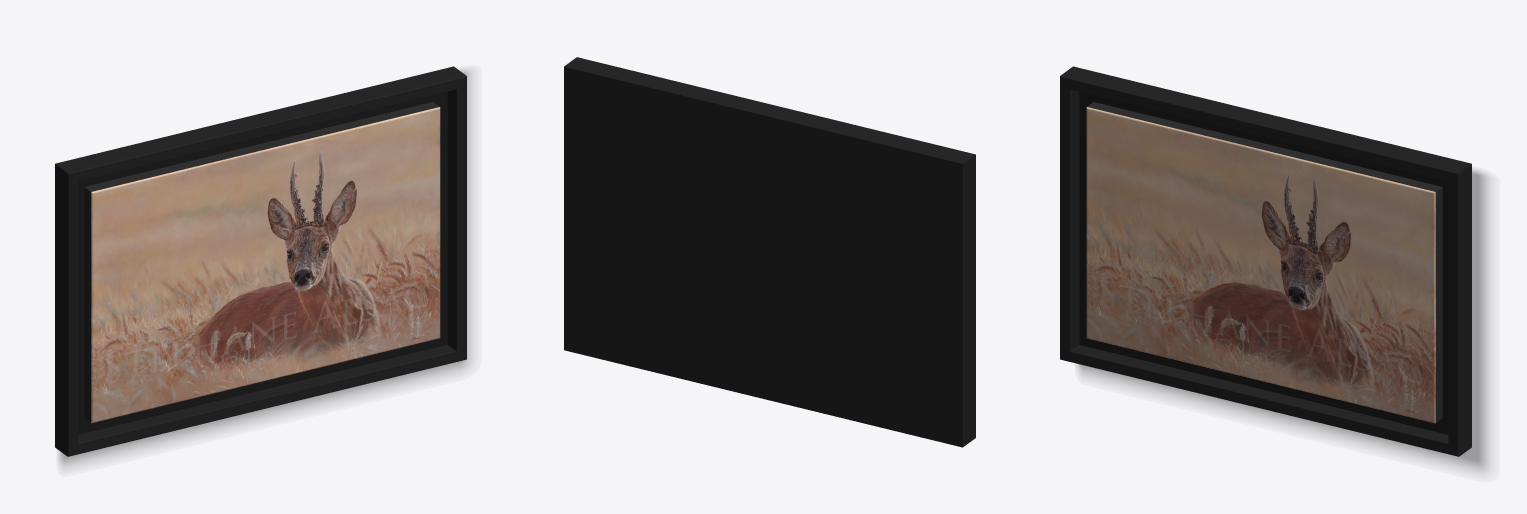
File: peinture-brocard-ete-classique-027ef873.glb
3 views of the same model, side by side, from view 1: azimuth 30°, elevation 25°; view 2: azimuth 150°, elevation 25°; view 3: azimuth 330°, elevation 25° (orthographic).
Visible parts, largest first — view 1: Painting; view 2: Painting; view 3: Painting.
Part boxes in pixels (<box>): Painting: <box>55,66,470,467</box>; Painting: <box>564,57,975,447</box>; Painting: <box>1060,66,1488,471</box>.
Bounding box in the file's own units: 0.826 × 0.606 × 0.04.
Materials: 5 (3 with a texture image).
